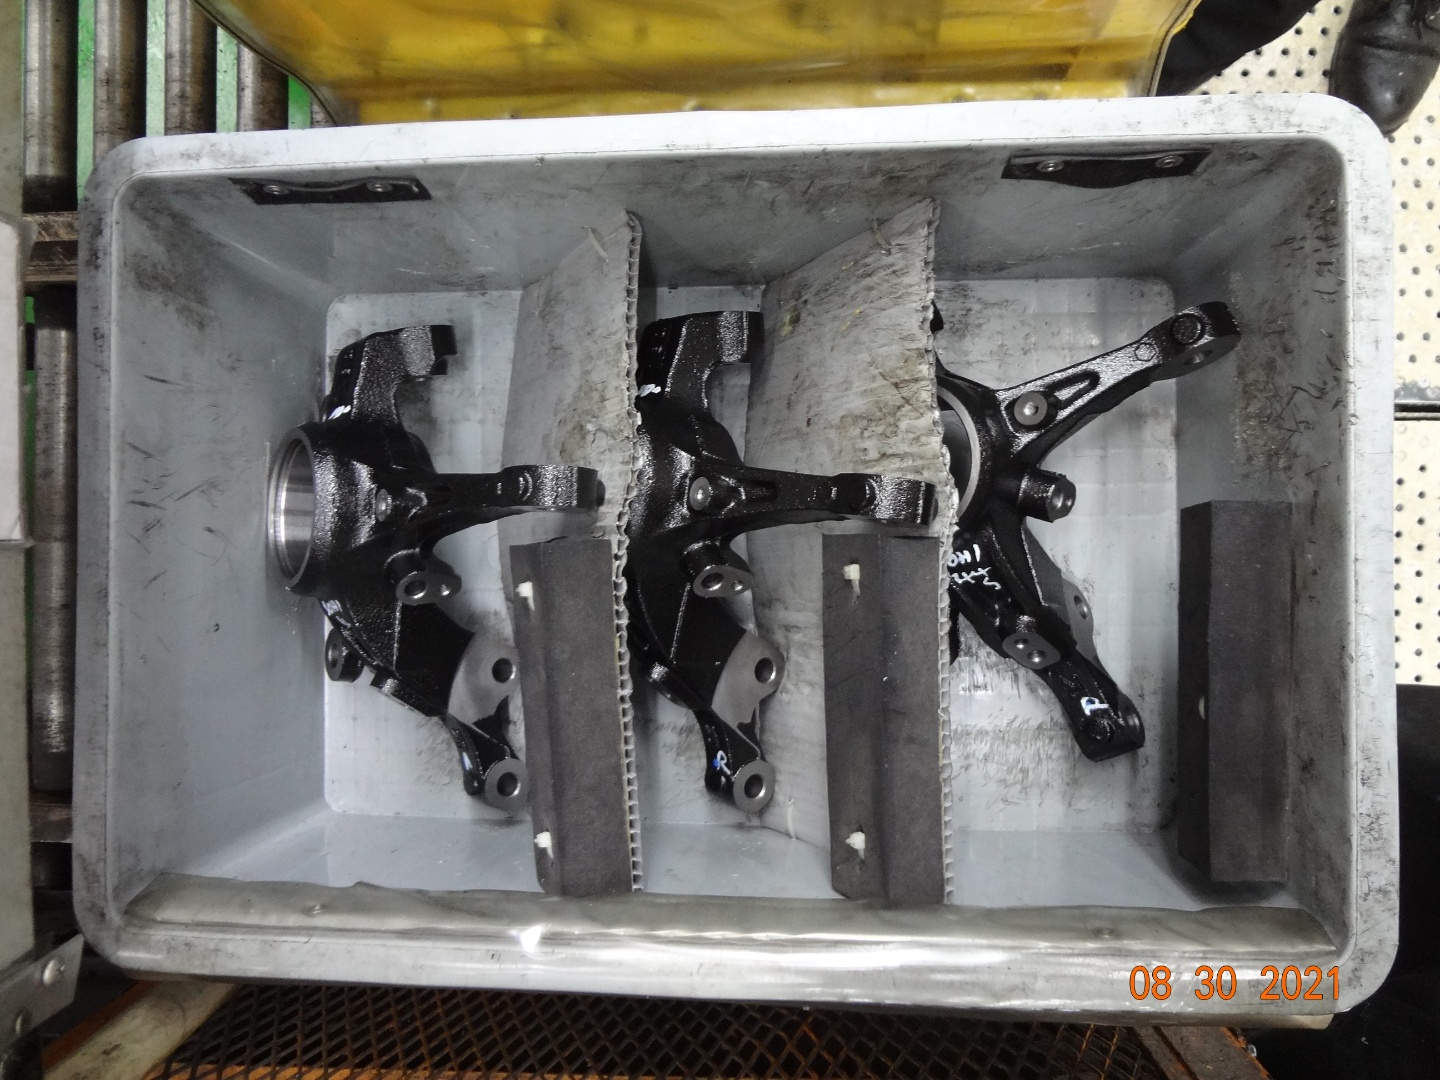abs-rh: (256, 306, 604, 824), (601, 296, 940, 821), (914, 277, 1250, 786)
